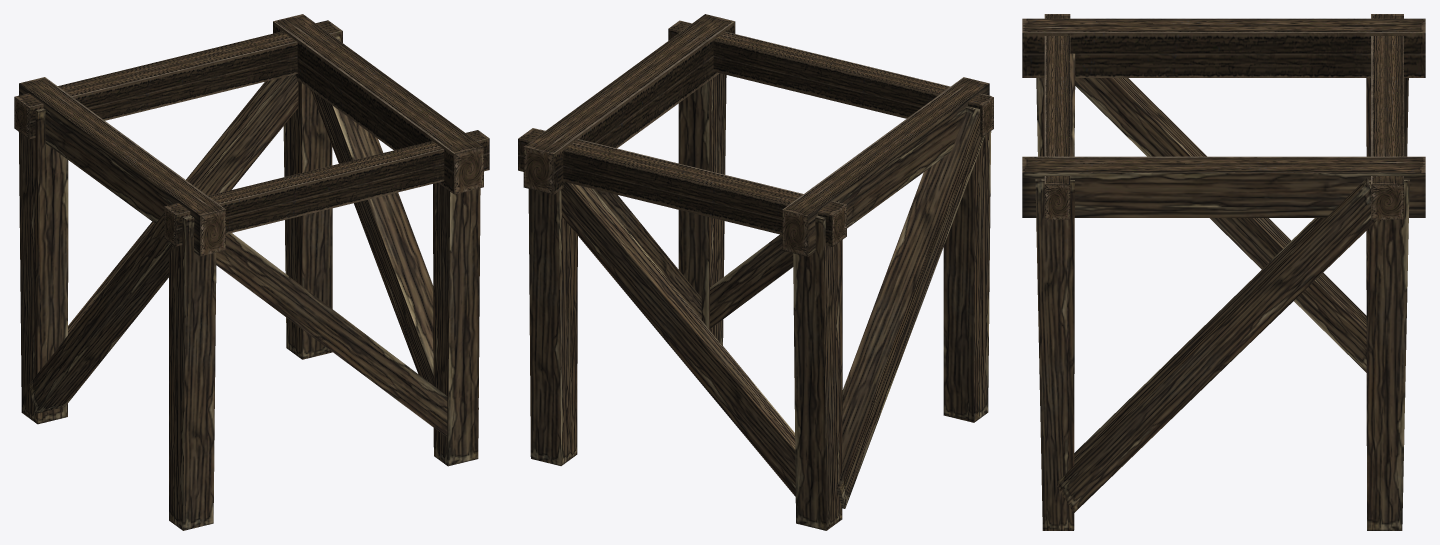
Rendered from Wood_4X4X4_02.fbx.
The picture shows the model from 3 angles, left to right: view 1: azimuth 30°, elevation 25°; view 2: azimuth 150°, elevation 25°; view 3: azimuth 270°, elevation 25°; orthographic projection. The views are drawn at different scales.
Parts seen in each view (by area): view 1: Wood_4X4X4_02; view 2: Wood_4X4X4_02; view 3: Wood_4X4X4_02.
Part boxes in pixels (box(x1,y1,x2,y2)): Wood_4X4X4_02: box(14, 14, 489, 530); Wood_4X4X4_02: box(518, 14, 993, 530); Wood_4X4X4_02: box(1022, 14, 1425, 530).
Bounding box in the file's own units: 4 × 3.9 × 4.
